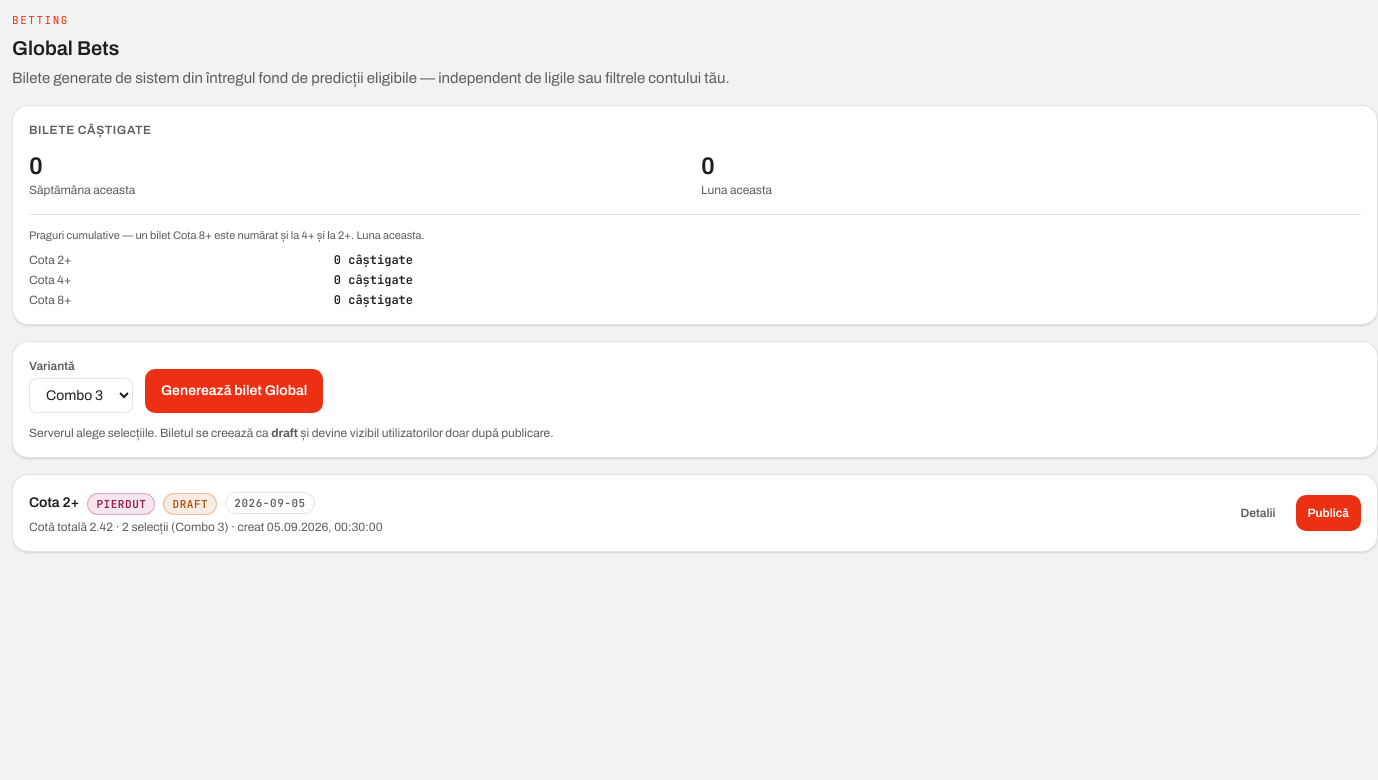
Scenario: selection status › grades each leg on its own stored status, not on the ticket's
Click the button "Detalii": (1258, 513) 1229,495 -> 1288,531
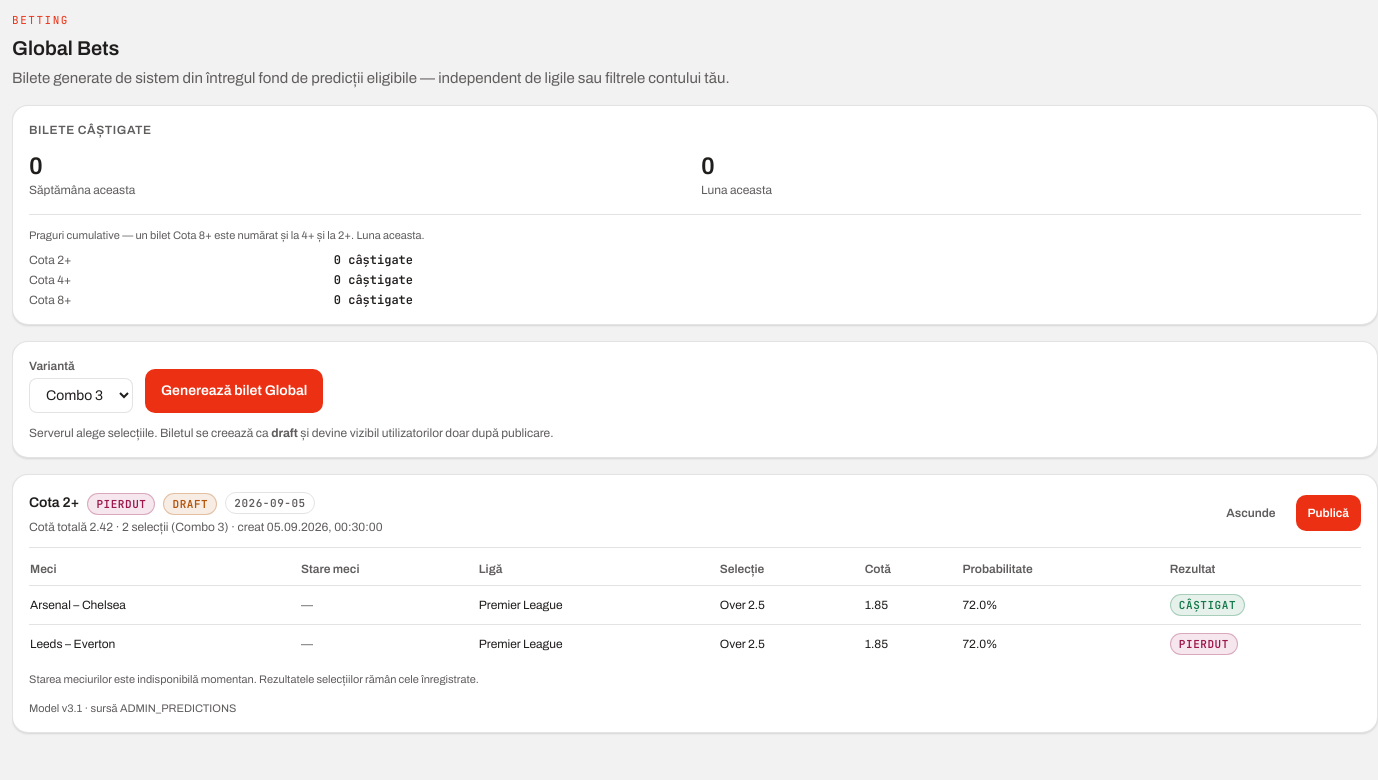
Expected: the text "Câștigat" is shown, 1170,594 -> 1245,616
Expected: the text "Pierdut" in the row of "Leeds – Everton" is shown, 1179,637 -> 1229,651
